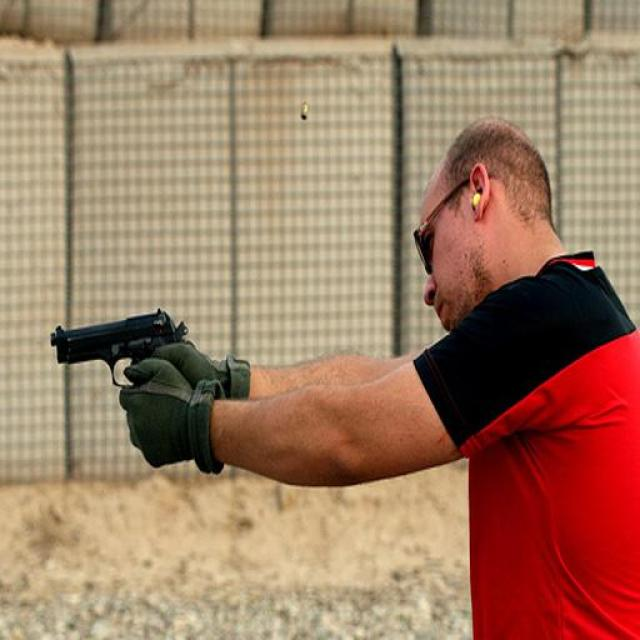pistol: (49, 292, 190, 391)
